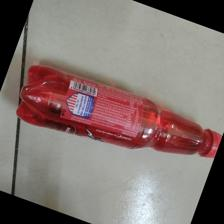Sting: (13, 65, 224, 160)
